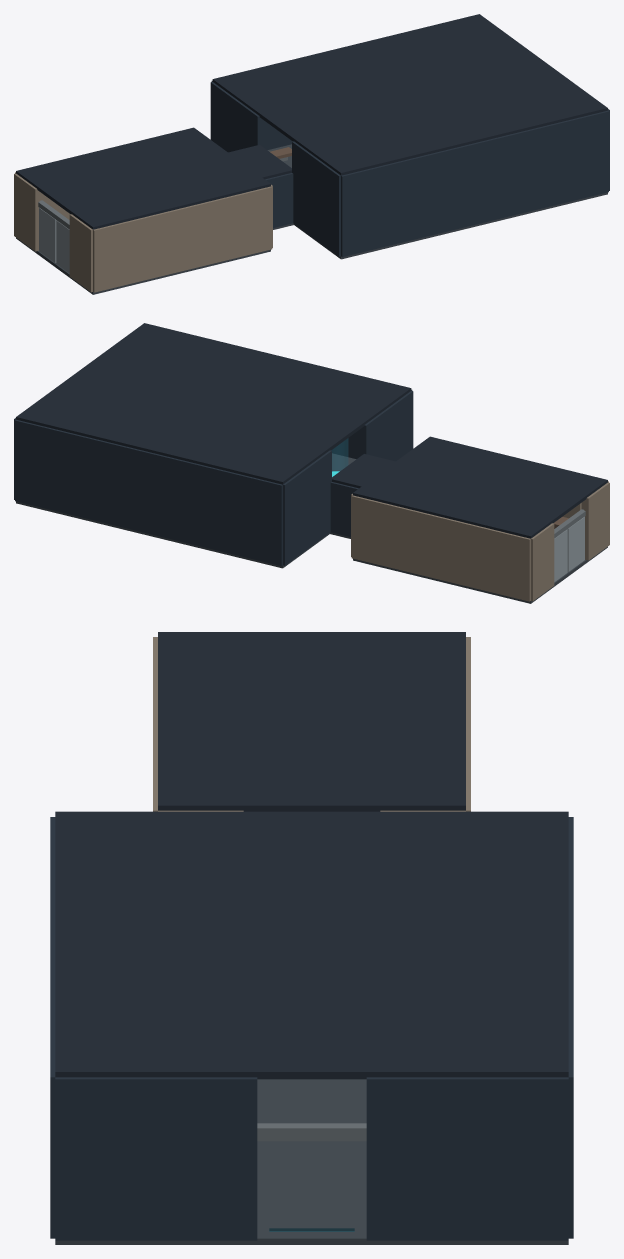
The model's file is aquarium_route_01_02.glb.
3 views of the same model, one above another, from view 1: azimuth 30°, elevation 25°; view 2: azimuth 150°, elevation 25°; view 3: azimuth 270°, elevation 25° (orthographic). The views are drawn at different scales.
Visible parts, largest first — view 1: Ceiling, DarkWall, WarmWall, Floor, Door; view 2: Ceiling, DarkWall, WarmWall, Floor, Door, TankWaterJellyCylinder; view 3: Ceiling, DarkWall, Floor, WarmWall, Metal.
Part boxes in pixels (x1,y1,x2,y2): Ceiling: (16,14,607,229); DarkWall: (210,80,609,257); WarmWall: (14,172,272,292); Floor: (16,144,607,294); Door: (39,207,69,273); Ceiling: (16,323,607,538); DarkWall: (14,389,413,566); WarmWall: (351,481,609,601); Floor: (16,453,607,603); Door: (554,516,584,582); TankWaterJellyCylinder: (332,439,347,476); Ceiling: (55,632,568,1079); DarkWall: (50,817,573,1240); Floor: (55,1079,568,1244); WarmWall: (153,637,470,811); Metal: (257,1123,366,1141).
Bounding box in the file's own units: 33.28 × 5.57 × 15.28.
